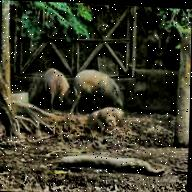boar: (72, 59, 128, 111), (35, 63, 77, 127), (93, 101, 125, 134)
